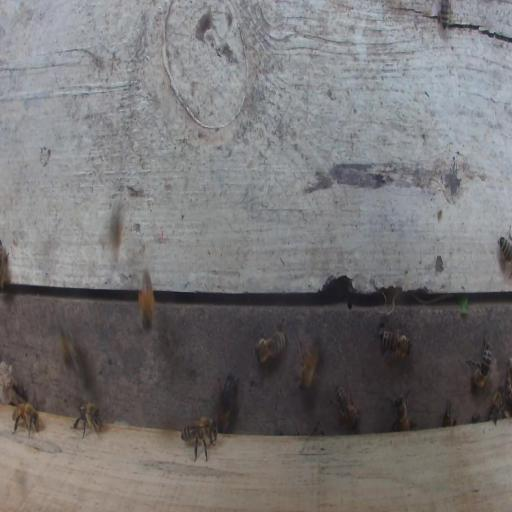nonpollenbee: (180, 415, 219, 465), (465, 330, 492, 392), (379, 316, 411, 368), (253, 317, 288, 364), (329, 381, 360, 432), (7, 389, 40, 436), (217, 369, 240, 433), (70, 398, 104, 440), (385, 387, 416, 433), (298, 337, 322, 395), (487, 385, 504, 427), (499, 222, 511, 278), (0, 237, 10, 294), (436, 1, 452, 31)
pollenbee: (138, 266, 155, 332)
